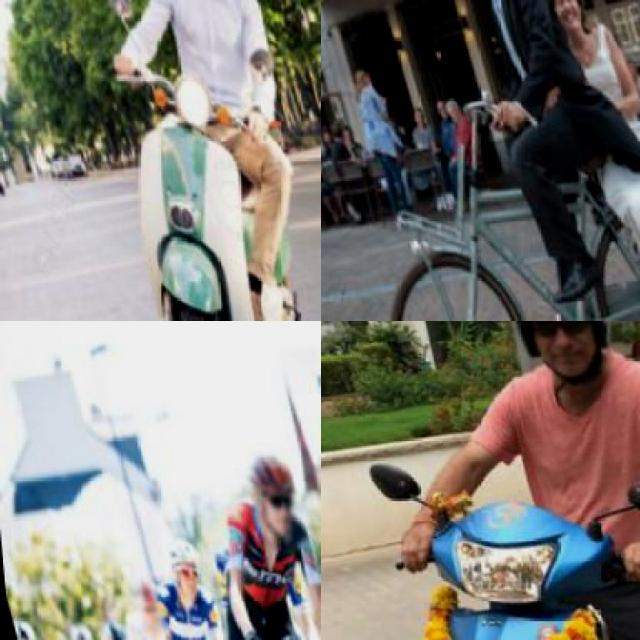With Helmet: (483, 320, 639, 402), (234, 439, 308, 553), (151, 528, 204, 602), (119, 571, 163, 637), (84, 608, 136, 638), (54, 616, 94, 638), (4, 616, 38, 638)
